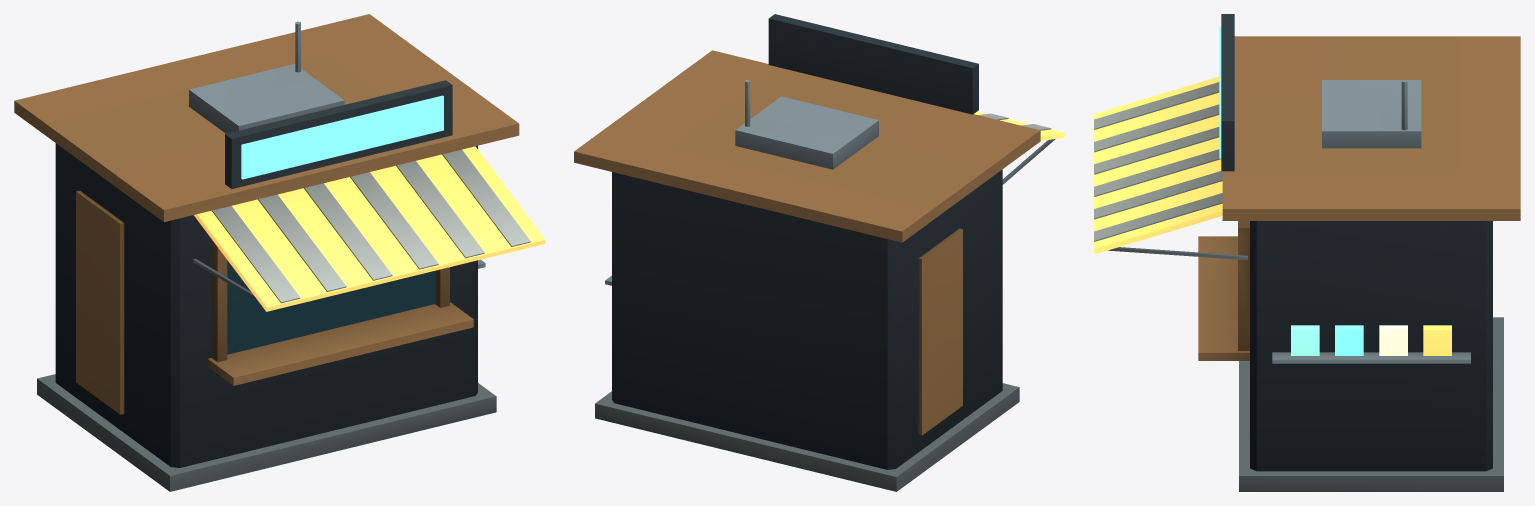
Rendered from kiosk.lod1.glb.
3 renders of one model, left to right at view 1: azimuth 30°, elevation 25°; view 2: azimuth 150°, elevation 25°; view 3: azimuth 270°, elevation 25°, orthographic. The views are drawn at different scales.
Parts seen in each view (by area): view 1: structure; view 2: structure; view 3: structure.
Part boxes in pixels (x1=…): structure: x1=14, y1=14, x2=545, y2=491; structure: x1=574, y1=14, x2=1064, y2=491; structure: x1=1093, y1=14, x2=1520, y2=491.
Size of the model in its own units: 3.7 by 3.55 by 3.87.
